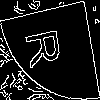R: (25, 25, 70, 69)
